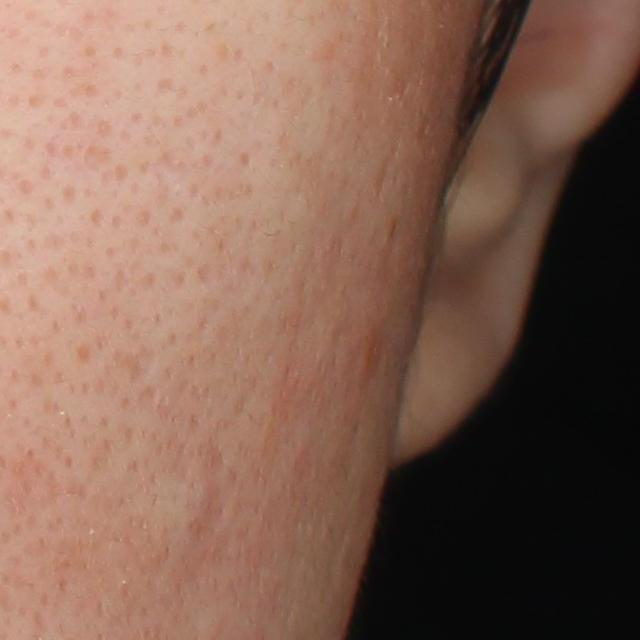atrophic_scar: (186, 436, 231, 561), (110, 344, 156, 385)
